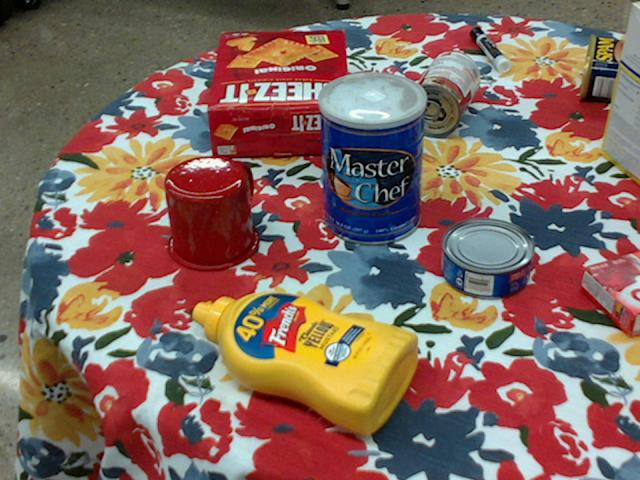cracker_box: (207, 30, 352, 154)
gelatin_box: (582, 252, 639, 336)
large_marker: (472, 26, 511, 71)
master_chef_can: (317, 70, 426, 245)
mug: (162, 154, 260, 271)
mustard_bottle: (192, 290, 420, 434)
potted_meat_can: (579, 32, 639, 103)
sugar_box: (600, 2, 639, 184)
tomato_soup_can: (406, 50, 480, 136)
tuna_fish_can: (443, 218, 536, 299)
